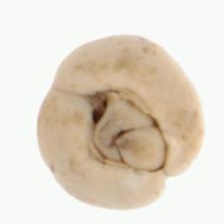L3: (80, 92, 167, 172)
L4: (36, 35, 204, 209)
